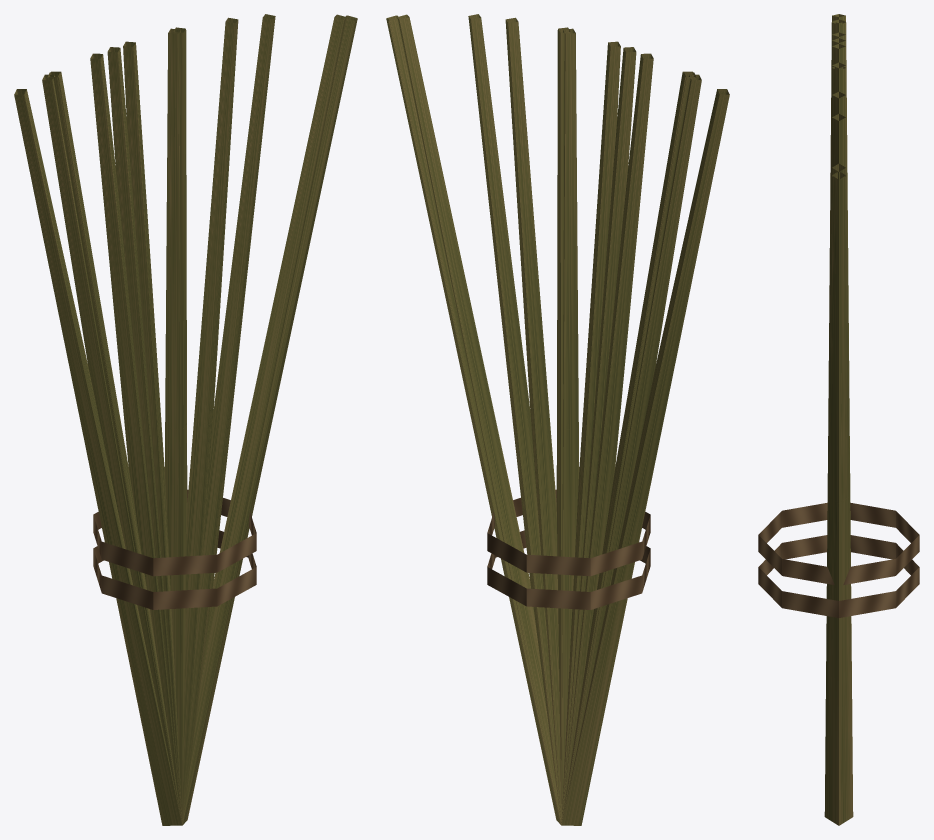
Rendered from ITEM_Fiber.fbx.
The picture shows the model from 3 angles, left to right: view 1: azimuth 30°, elevation 25°; view 2: azimuth 150°, elevation 25°; view 3: azimuth 270°, elevation 25°; orthographic projection. The views are drawn at different scales.
Parts seen in each view (by area): view 1: ITEM_Fiber; view 2: ITEM_Fiber; view 3: ITEM_Fiber.
Part boxes in pixels (x1,y1,x2,y2): ITEM_Fiber: (14,14,357,825); ITEM_Fiber: (386,14,729,825); ITEM_Fiber: (758,14,919,825).
Bounding box in the file's own units: 0.1596 × 0.3514 × 0.068.
